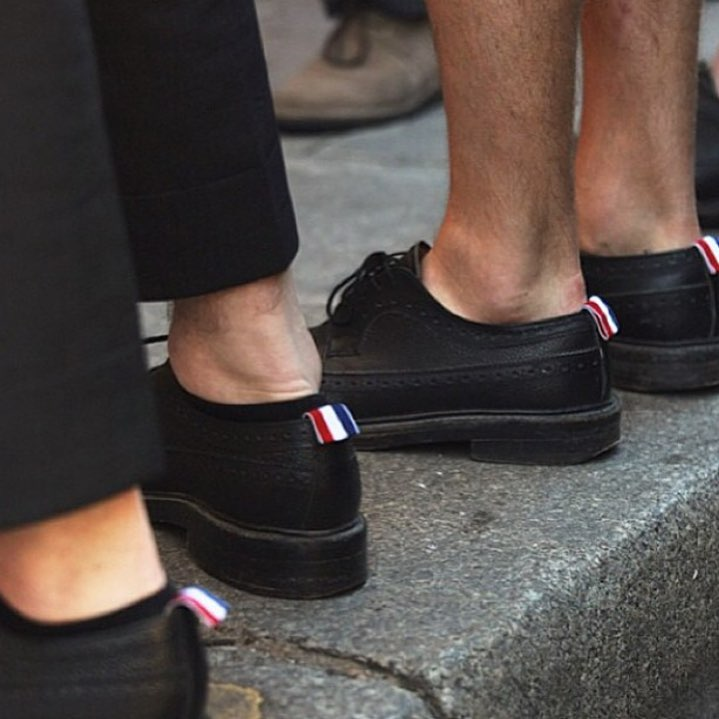sneaker: (95, 248, 398, 607), (269, 233, 635, 476), (1, 441, 237, 715), (549, 206, 717, 412)
